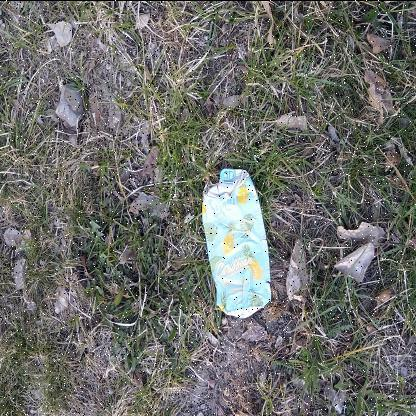metal: (202, 166, 272, 320)
